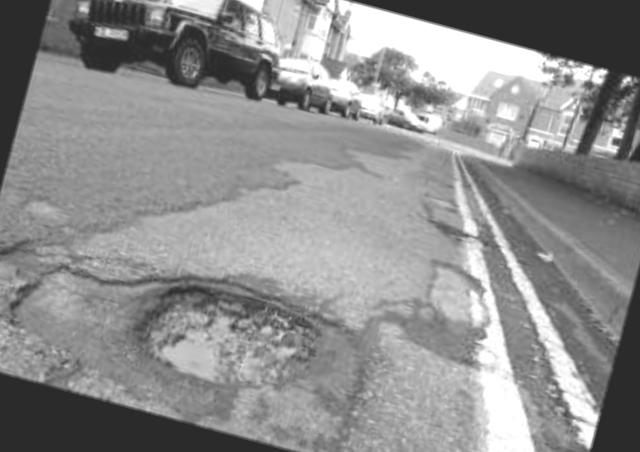Pothole: (108, 248, 337, 424)
